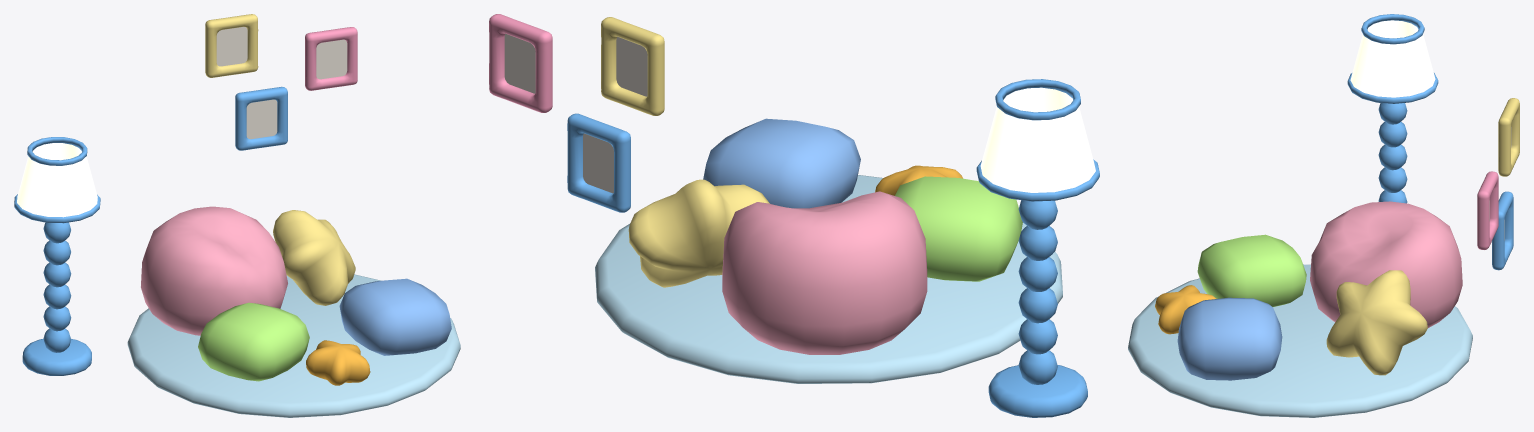
The model's file is Cushion.fbx.
3 views of the same model, side by side, from view 1: azimuth 30°, elevation 25°; view 2: azimuth 150°, elevation 25°; view 3: azimuth 270°, elevation 25° (orthographic). The views are drawn at different scales.
Parts seen in each view (by area): view 1: RugSmall, Cushion, StandLight, CushionSquare02, CushionSquare01, CushionStar01, PhotoFrame01, PhotoFrame03, PhotoFrame02, CushionStar02; view 2: Cushion, RugSmall, StandLight, CushionSquare02, CushionSquare01, CushionStar01, PhotoFrame02, PhotoFrame03, PhotoFrame01, CushionStar02; view 3: RugSmall, Cushion, StandLight, CushionSquare02, CushionStar01, CushionSquare01, PhotoFrame02, PhotoFrame01, CushionStar02, PhotoFrame03.
Part boxes in pixels (x1,y1,x2,y2): RugSmall: [127, 274, 460, 417]; Cushion: [141, 206, 287, 335]; StandLight: [14, 137, 100, 375]; CushionSquare02: [339, 278, 451, 355]; CushionSquare01: [198, 302, 309, 381]; CushionStar01: [273, 210, 355, 305]; PhotoFrame01: [205, 14, 258, 77]; PhotoFrame03: [235, 86, 287, 150]; PhotoFrame02: [305, 27, 357, 90]; CushionStar02: [306, 340, 370, 385]; Cushion: [722, 191, 927, 354]; RugSmall: [595, 175, 1062, 383]; StandLight: [976, 79, 1099, 417]; CushionSquare02: [703, 118, 860, 208]; CushionSquare01: [895, 176, 1022, 281]; CushionStar01: [628, 179, 769, 287]; PhotoFrame02: [489, 14, 552, 112]; PhotoFrame03: [567, 113, 630, 212]; PhotoFrame01: [601, 17, 664, 115]; CushionStar02: [875, 165, 962, 195]; RugSmall: [1128, 264, 1472, 417]; Cushion: [1310, 201, 1462, 327]; StandLight: [1347, 14, 1438, 203]; CushionSquare02: [1177, 297, 1282, 380]; CushionStar01: [1326, 270, 1427, 375]; CushionSquare01: [1197, 234, 1306, 306]; PhotoFrame02: [1477, 171, 1498, 249]; PhotoFrame01: [1498, 98, 1519, 176]; CushionStar02: [1155, 285, 1216, 334]; PhotoFrame03: [1492, 191, 1513, 270].
Bounding box in the file's own units: 3.3 × 2.05 × 2.83.
